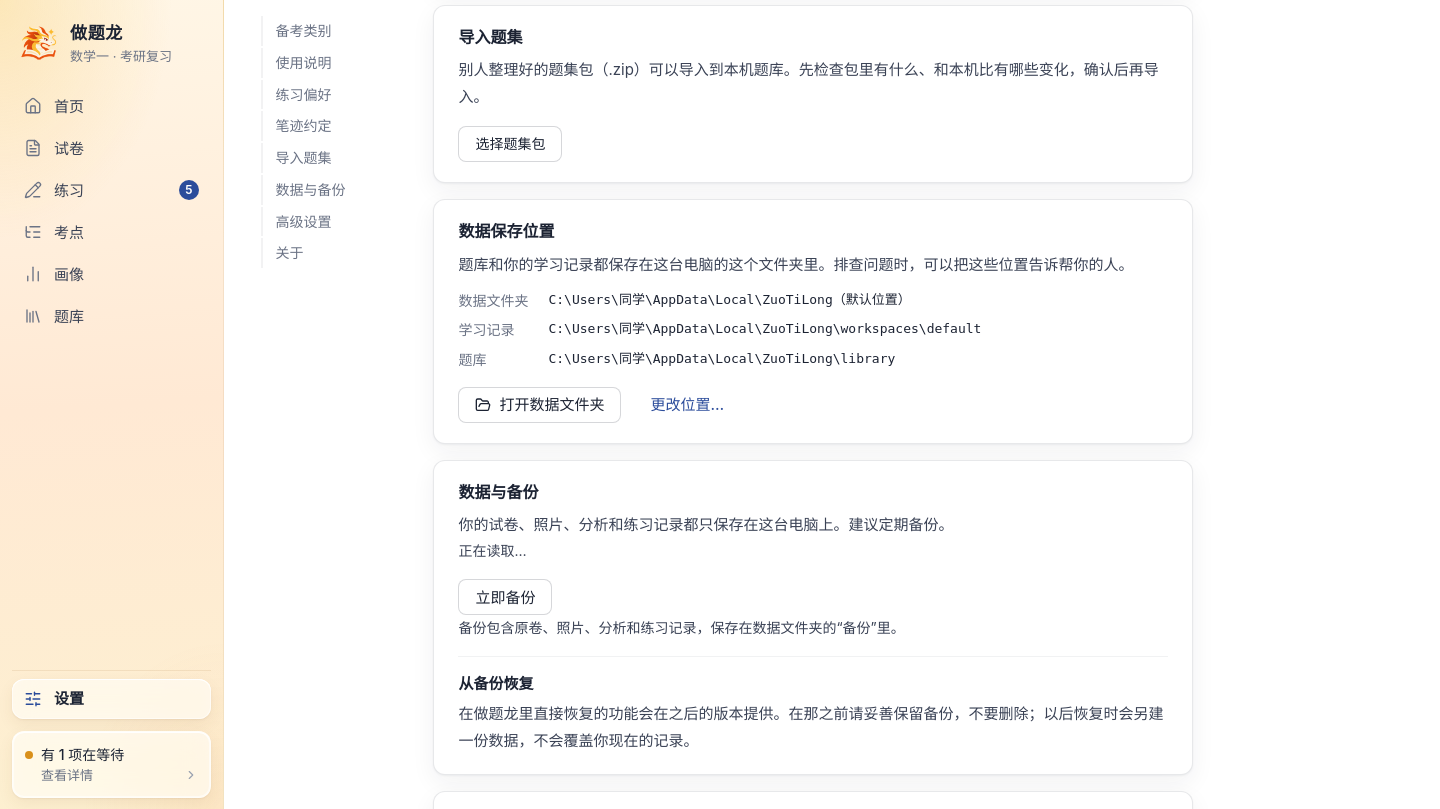
Test case: shows data locations with explanations and reports a missing folder
(page scrolled)
Check: the text "C:\\Users\\同学\\AppData\\Local\\ZuoTiLong（默认位置）" is shown, box [548, 292, 911, 306]
Check: the text "C:\\Users\\同学\\AppData\\Local\\ZuoTiLong\\workspaces\\default" is shown, box [548, 321, 981, 336]
Click the button "打开数据文件夹". click: (540, 405)
box: [458, 387, 621, 423]
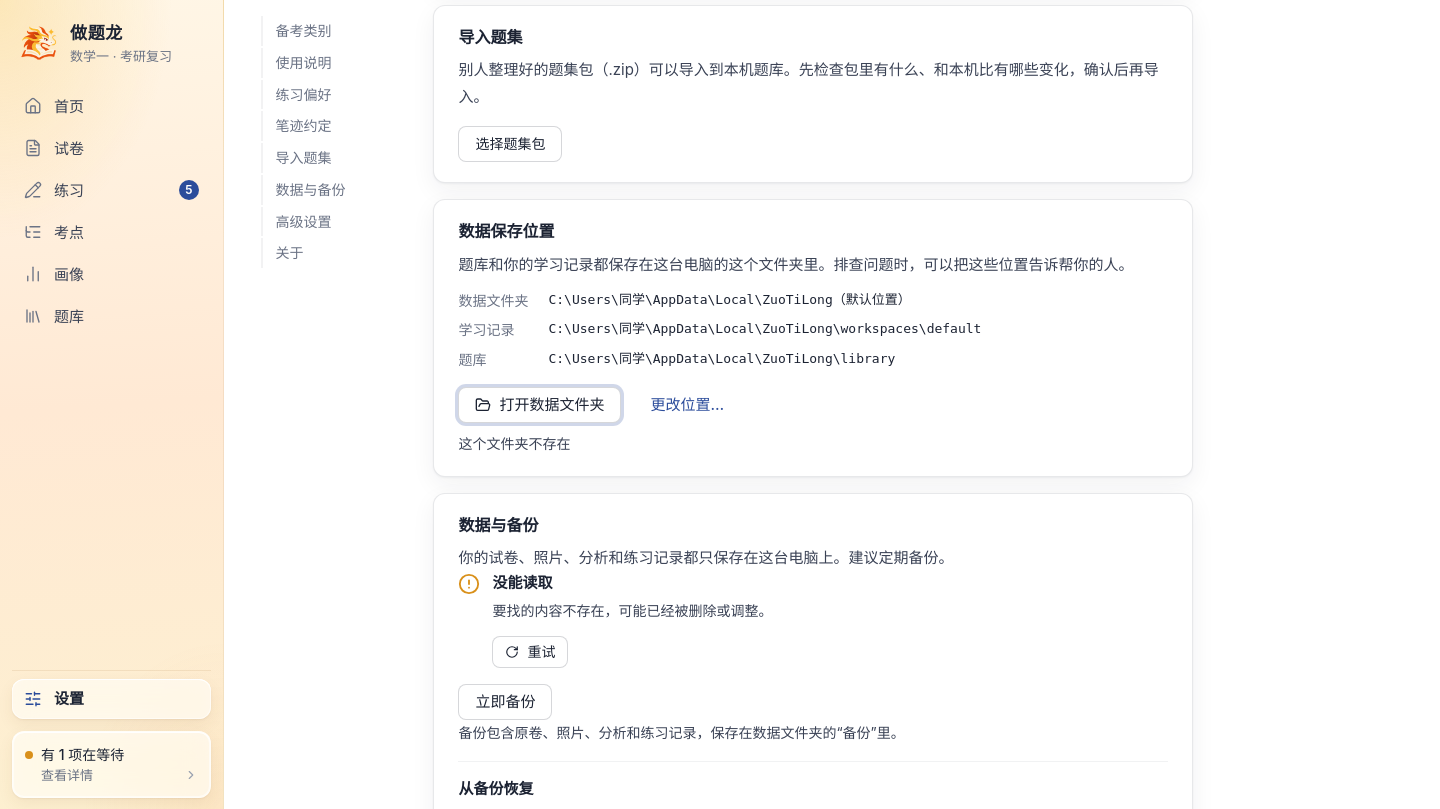
Check: the text "这个文件夹不存在" is shown, box [458, 435, 570, 452]
